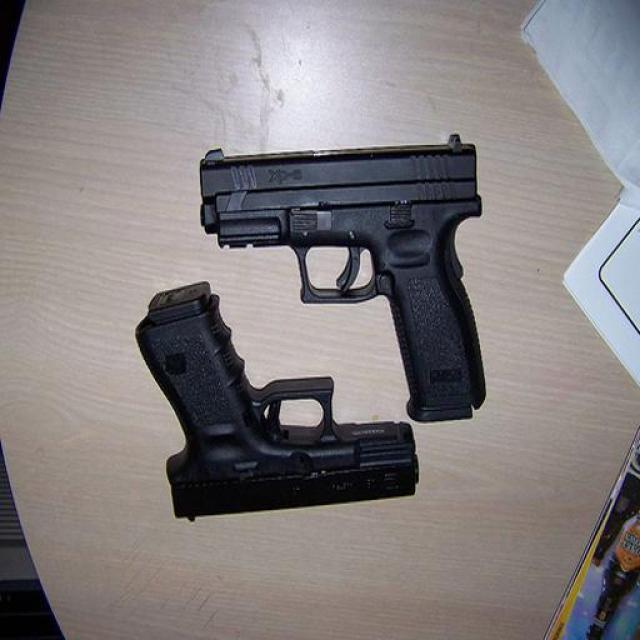pistol: (196, 136, 491, 424), (133, 278, 419, 519)
